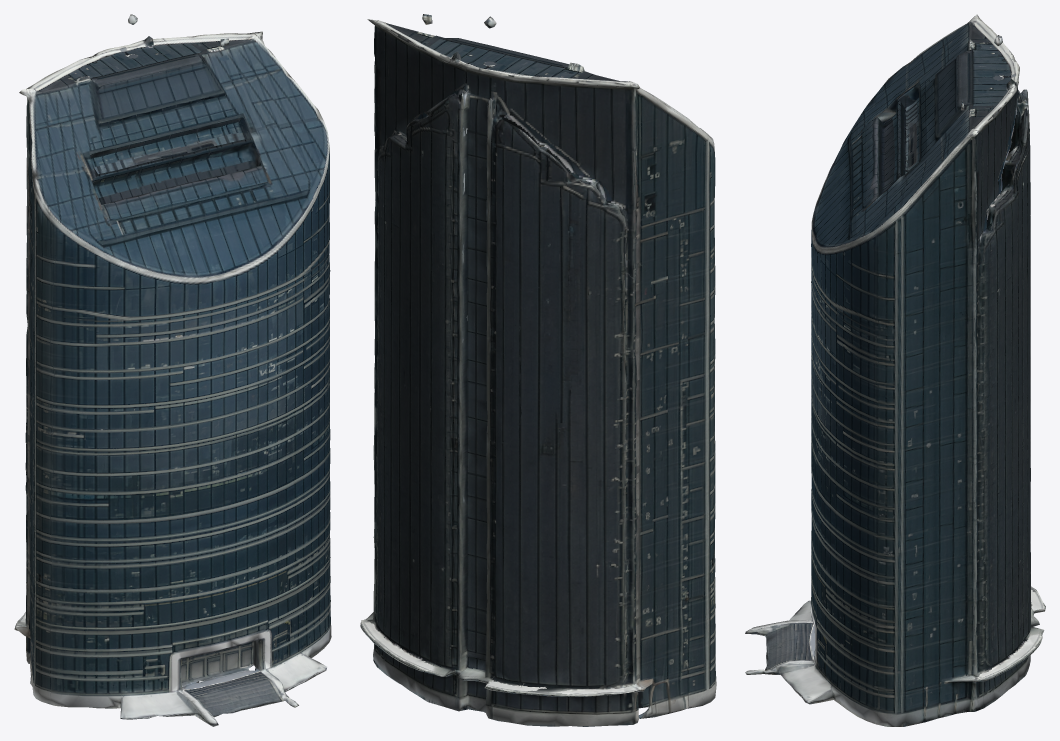
File: ColonyTower_Glass.fbx
The picture shows the model from 3 angles, left to right: view 1: azimuth 30°, elevation 25°; view 2: azimuth 150°, elevation 25°; view 3: azimuth 270°, elevation 25°; orthographic projection. The views are drawn at different scales.
Visible parts, largest first — view 1: texture_mapping; view 2: texture_mapping; view 3: texture_mapping.
Part boxes in pixels (x1,y1,x2,y2): texture_mapping: (14, 14, 331, 726); texture_mapping: (360, 14, 716, 726); texture_mapping: (745, 14, 1045, 726).
Size of the model in its own units: 0.4798 by 0.4231 by 0.9627.
Materials: 1 (1 with a texture image).
